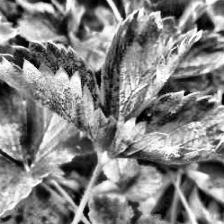Powdery Mildew Leaf: (0, 39, 118, 155), (100, 10, 204, 124), (106, 90, 224, 164), (171, 31, 224, 78)
